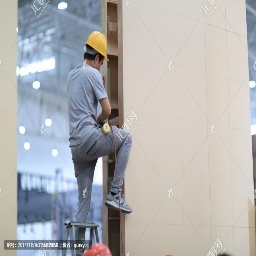helmet: (86, 29, 111, 58)
no-vest: (64, 67, 111, 156)
person: (62, 29, 133, 224)
